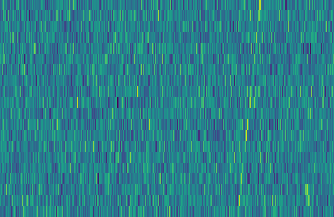signal: (234, 0, 267, 217)
